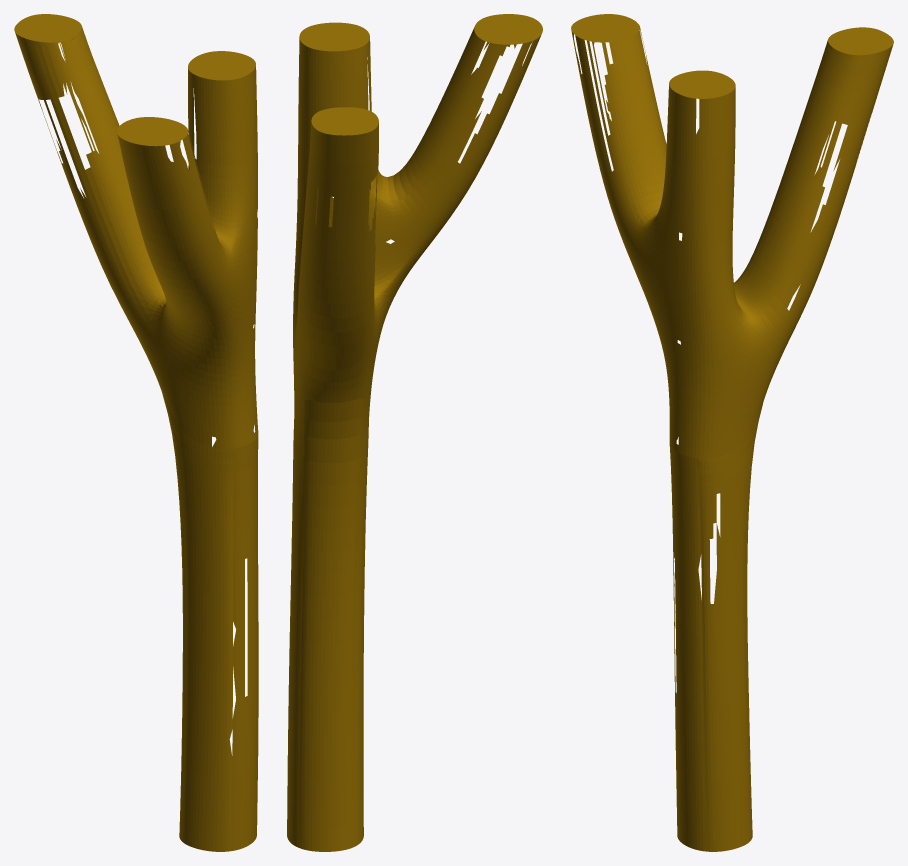
Rendered from 8_decorative.glb.
3 views of the same model, side by side, from view 1: azimuth 30°, elevation 25°; view 2: azimuth 150°, elevation 25°; view 3: azimuth 270°, elevation 25° (orthographic). The views are drawn at different scales.
Visible parts, largest first — view 1: skpB644; view 2: skpB644; view 3: skpB644.
Boxes of the visible parts, box(x1,y1,x2,y2) form: skpB644: box(14, 14, 258, 851); skpB644: box(287, 14, 542, 851); skpB644: box(571, 14, 893, 851).
Bounding box in the file's own units: 0.9975 × 3.96 × 1.55.
